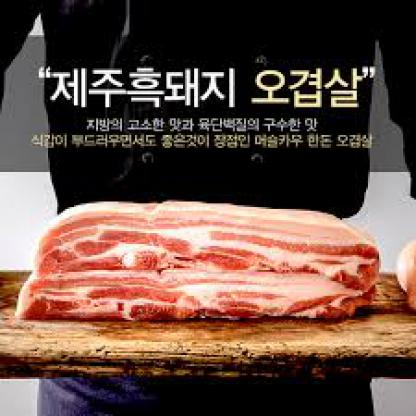pork: (34, 202, 376, 327)
